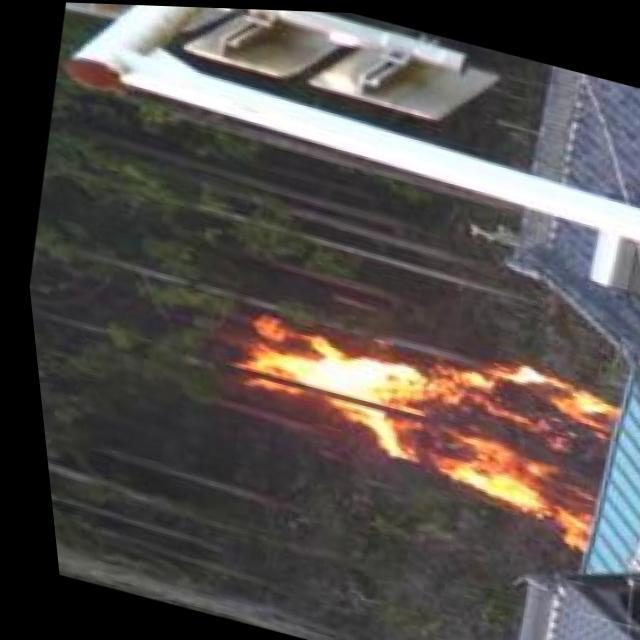fire: (221, 292, 627, 534)
